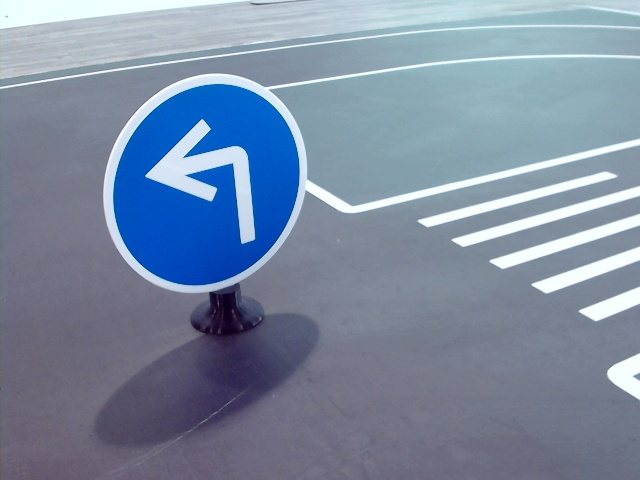turn_left: (143, 118, 264, 251)
